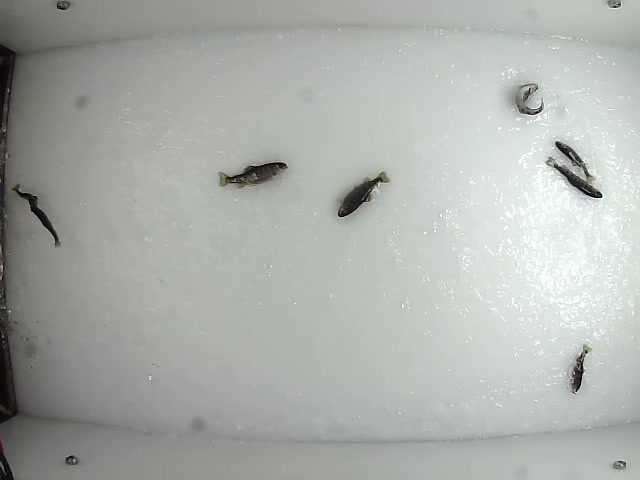fish: (542, 154, 605, 199), (336, 170, 391, 219), (551, 138, 599, 186), (217, 159, 290, 189), (27, 200, 63, 249), (512, 81, 545, 116), (569, 343, 590, 396), (10, 183, 39, 211)
